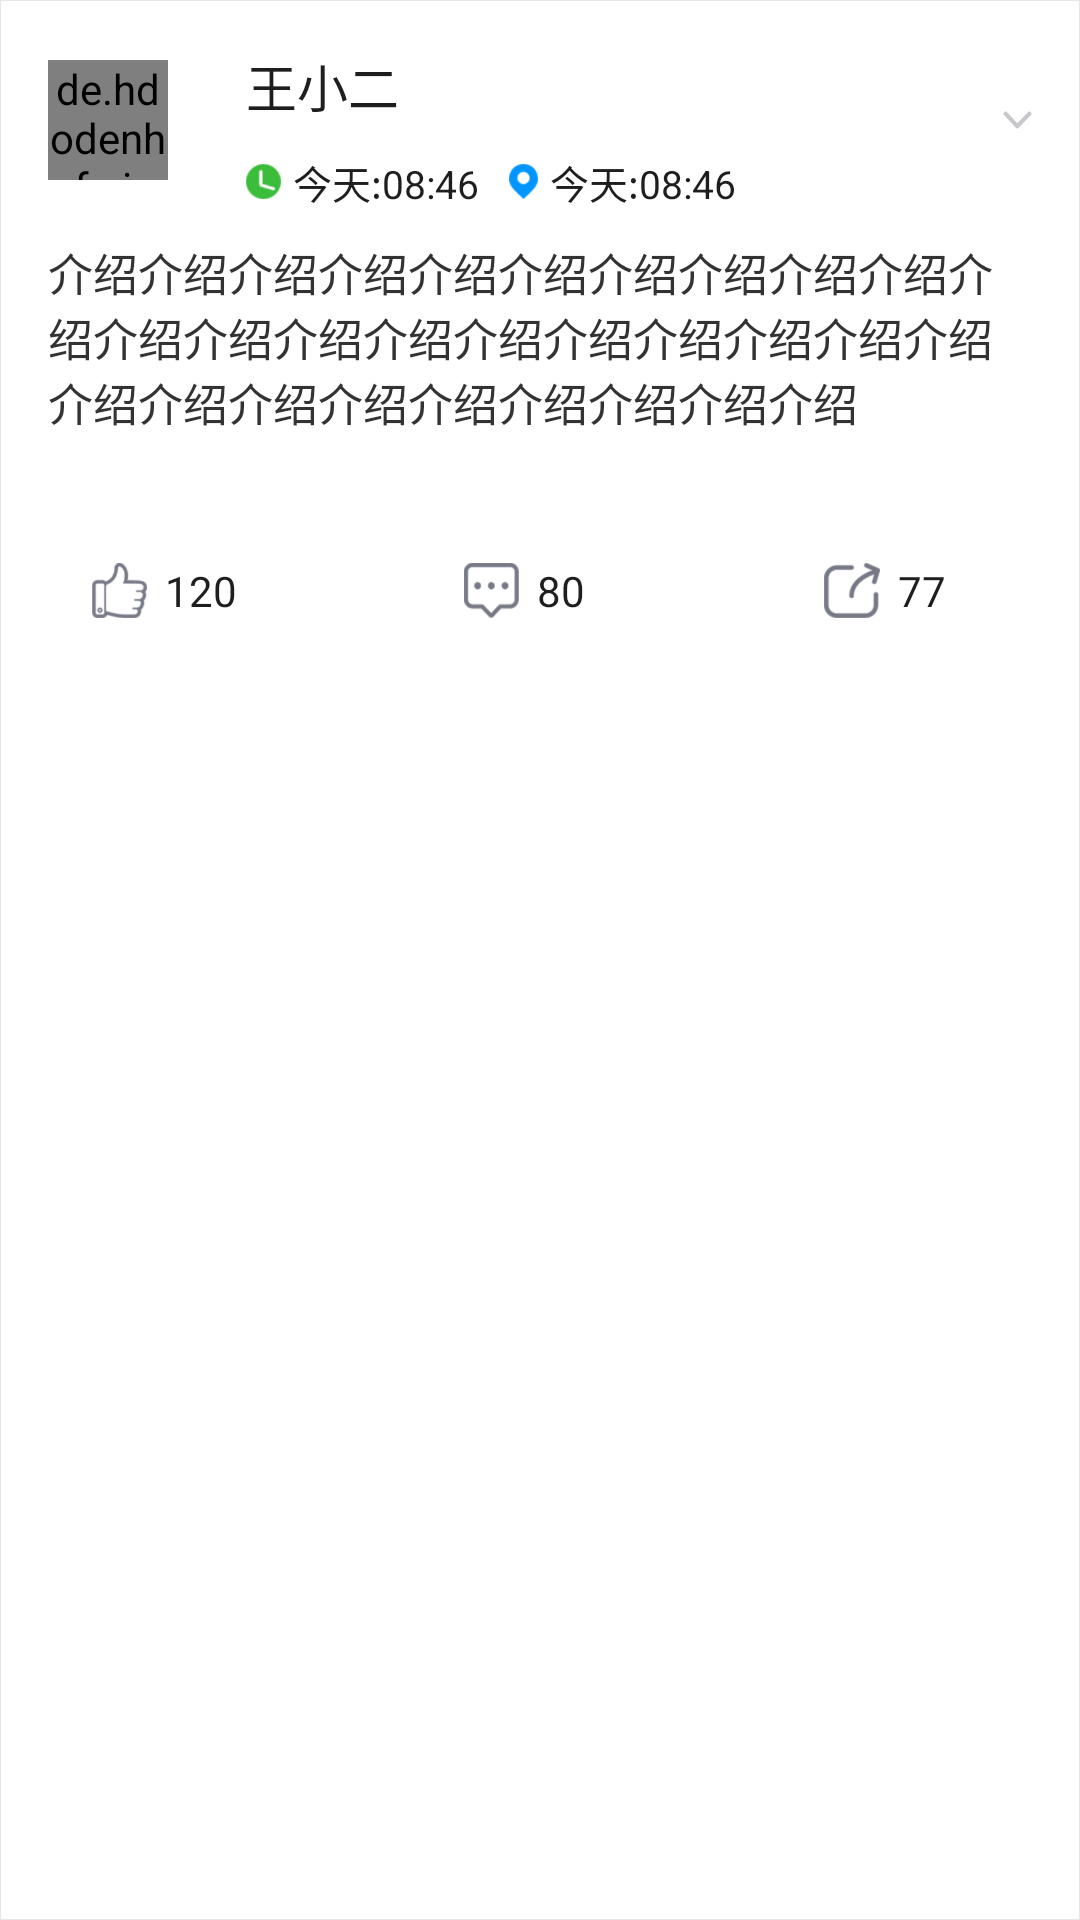

Screen size 1080*1920. Icon name, then its box in pixels as (x1, y1, x2, y2):
item down: (1004, 112, 1031, 128)
